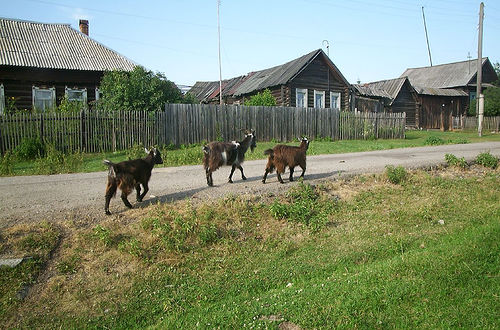goat: (102, 145, 164, 217), (203, 128, 258, 188), (263, 136, 311, 183)
